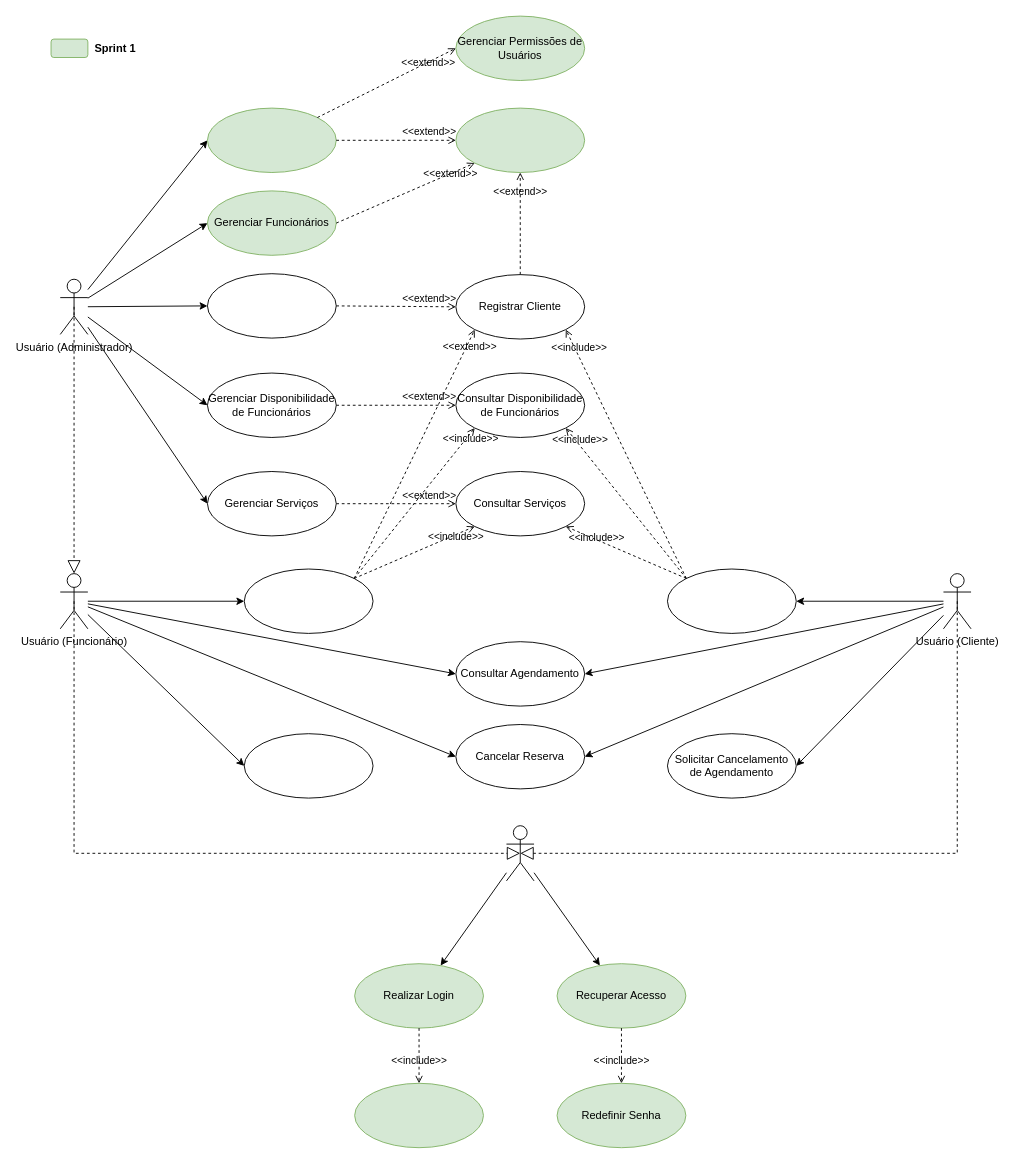
Image size: 1015x1164. Some labels were removed from this diagram. Each missing label, with the centre of its shape:
Autenticar e Autorizar Usuário: the point at 418,1115
Cancelar Agendamento: the point at 308,765
Criar Usuário: the point at 520,139
Gerenciar Clientes: the point at 271,305
Gerenciar Usuários: the point at 271,139
Realizar Agendamento: the point at 308,600
Solicitar Reserva: the point at 731,600
Usuário: the point at 520,853
